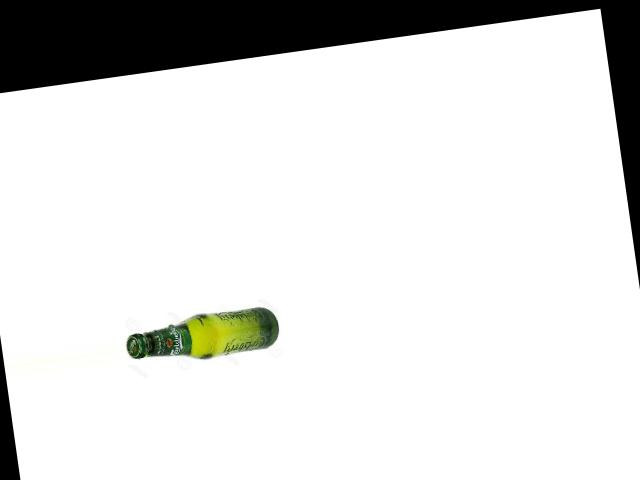beer: (122, 303, 282, 370)
